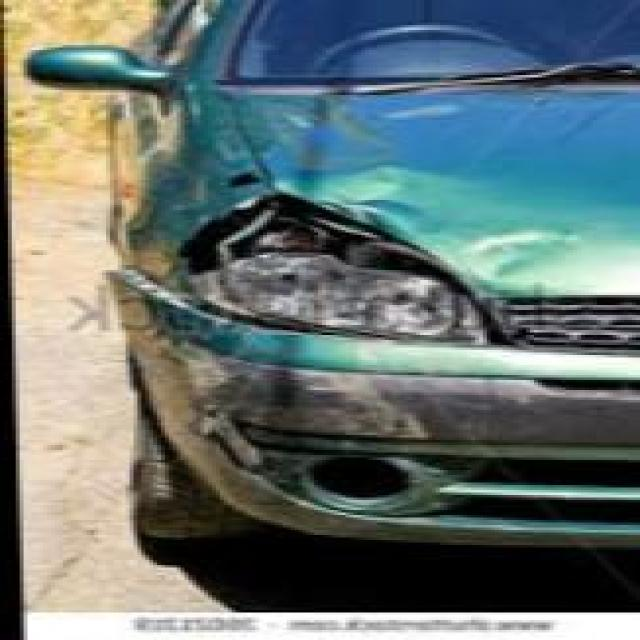Bonnet: (203, 85, 640, 301)
Bumper: (104, 277, 640, 543)
Fender: (89, 89, 271, 270)
Light: (162, 193, 491, 339)
